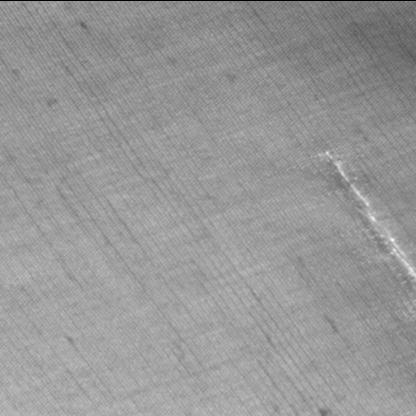hole: (318, 146, 414, 288)
